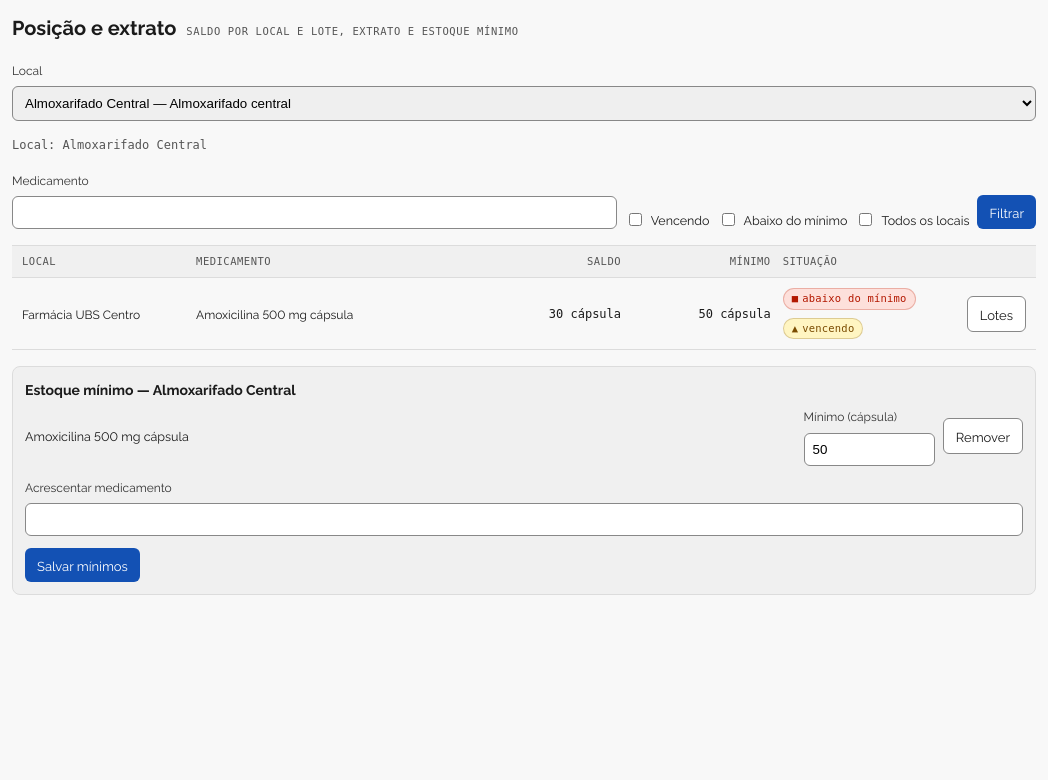
Scenario: PharmacyStock › consulta: o almoxarife do central abre a posição de local alheio (roles vazio), sem painel de mínimos
Expected: the field named "Mínimo de Amoxicilina 500 mg cápsula (cápsula)" is shown, [804, 432, 935, 466]
Expected: the checkbox labelled "Todos os locais" is shown, [859, 213, 872, 226]
Select "Farmácia UBS Centro — Farmácia da unidade" in the dropdown labelled "Local": (524, 104) [12, 86, 1036, 121]
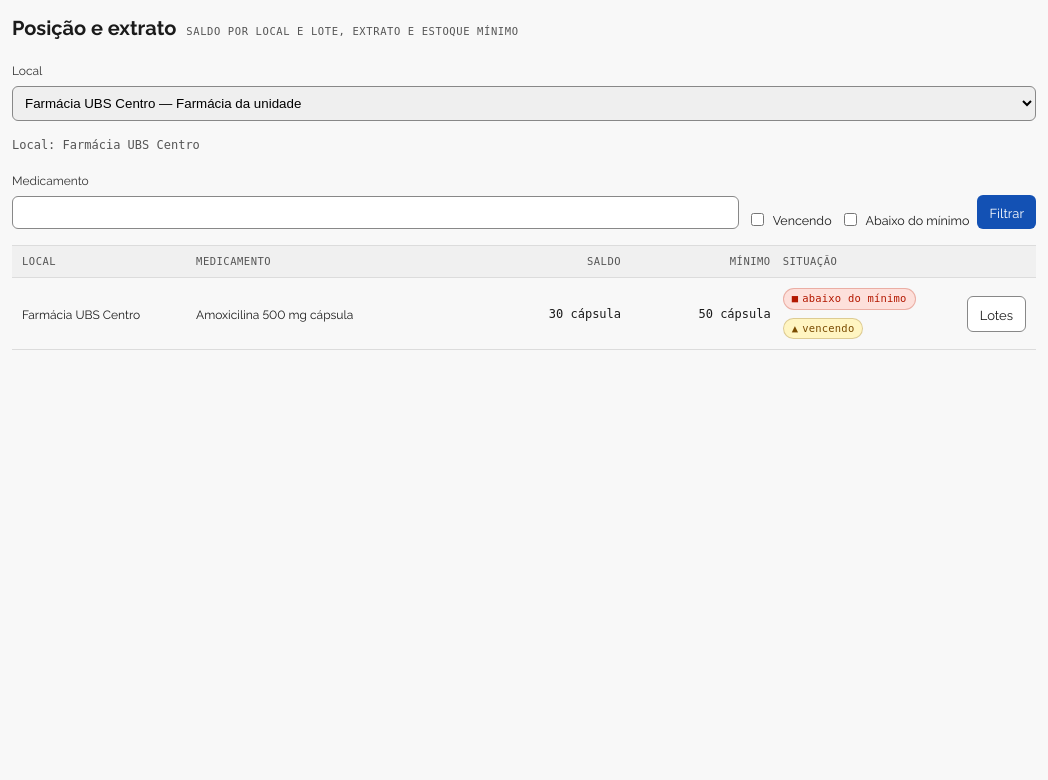
Now the button "Salvar mínimos" is gone
Now the label labelled "Todos os locais" is gone
